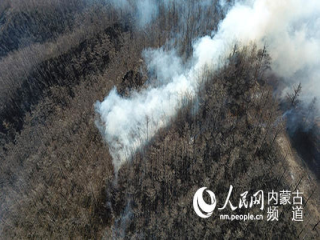smoke: (79, 39, 210, 168), (196, 5, 320, 84)
